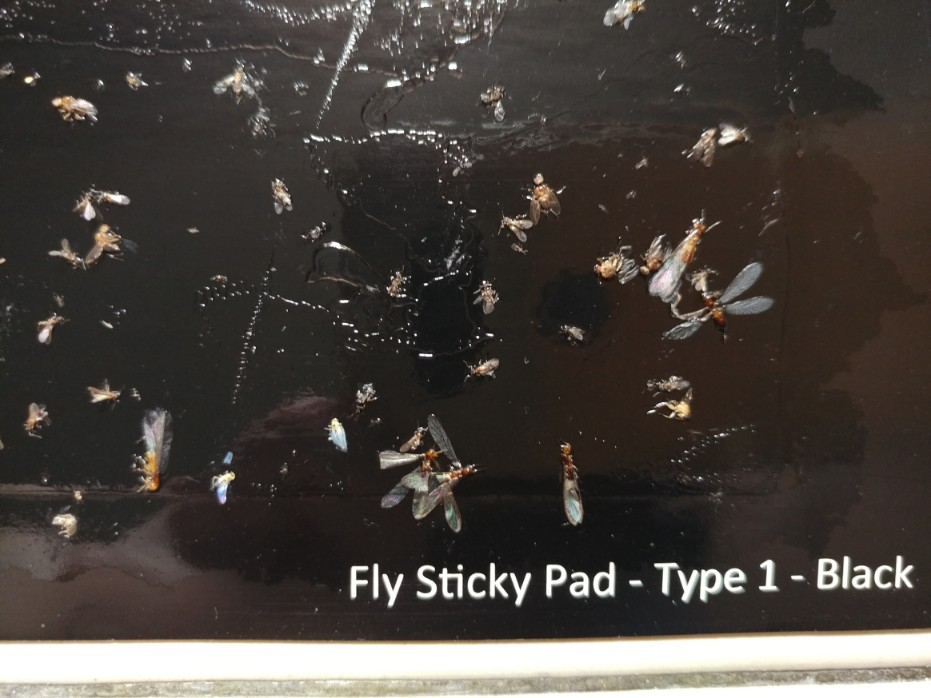termite: (649, 210, 713, 307), (129, 405, 184, 496), (394, 464, 475, 523), (554, 435, 591, 530)
